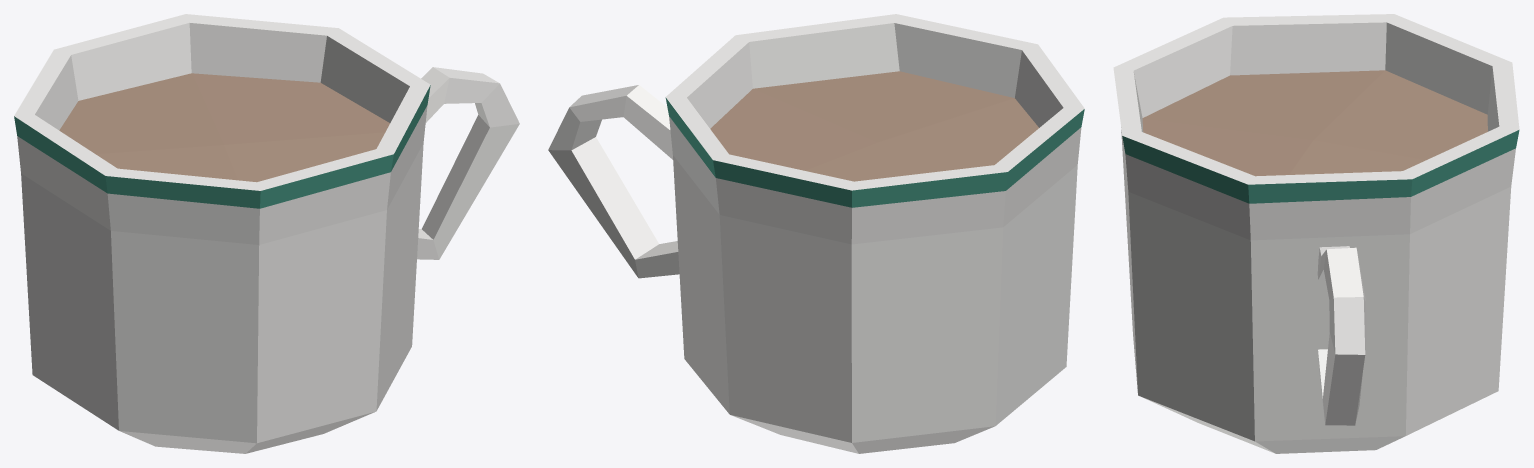
File: Cup_Full_1.fbx
3 renders of one model, left to right at view 1: azimuth 30°, elevation 25°; view 2: azimuth 150°, elevation 25°; view 3: azimuth 270°, elevation 25°, orthographic.
Parts seen in each view (by area): view 1: Cup_Full_1; view 2: Cup_Full_1; view 3: Cup_Full_1.
Part boxes in pixels (left/top/right/bottom): Cup_Full_1: left=14, top=14, right=519, bottom=453; Cup_Full_1: left=548, top=14, right=1084, bottom=453; Cup_Full_1: left=1113, top=14, right=1519, bottom=453.
Bounding box in the file's own units: 10.55 × 7.67 × 6.32.
